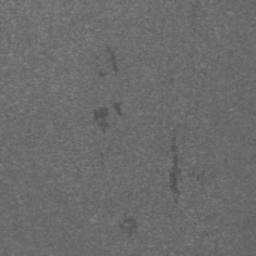Iron scale compression: (169, 129, 179, 195), (93, 107, 109, 131), (106, 45, 118, 75), (113, 102, 123, 116)
